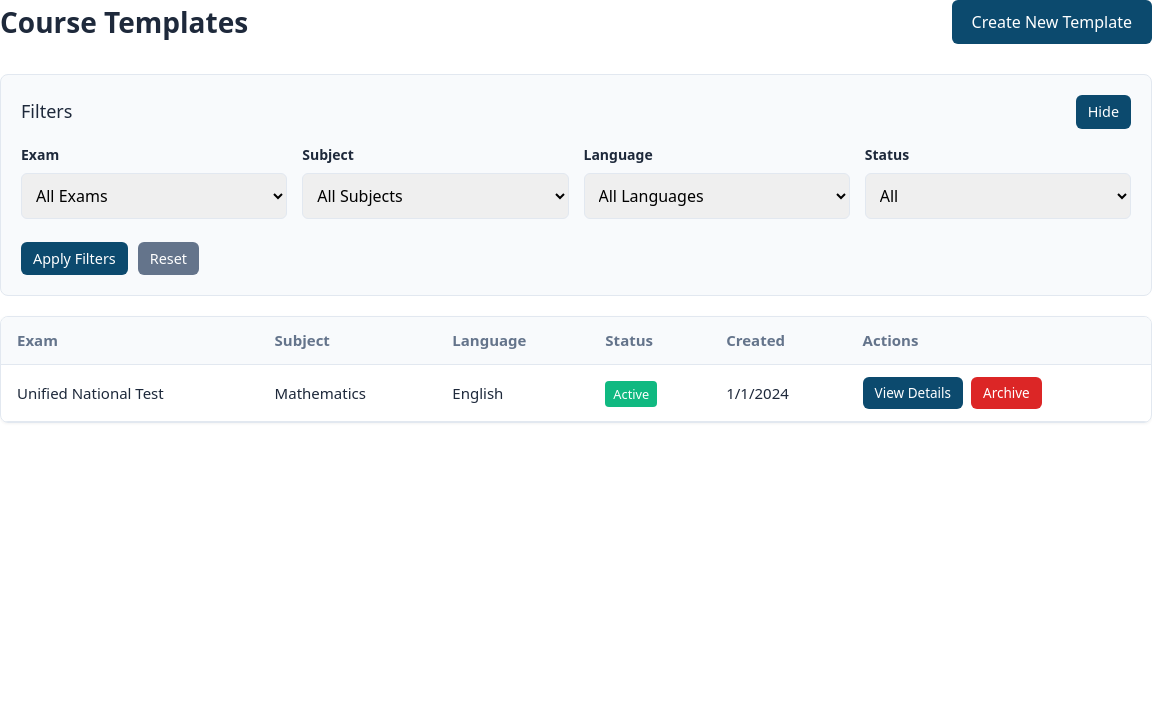
CourseTemplatePanel › displays levels with action buttons in details view
The image size is (1152, 720).
Click the button "View Details" at (913, 393), box left=863, top=377, right=963, bottom=409
(page scrolled)
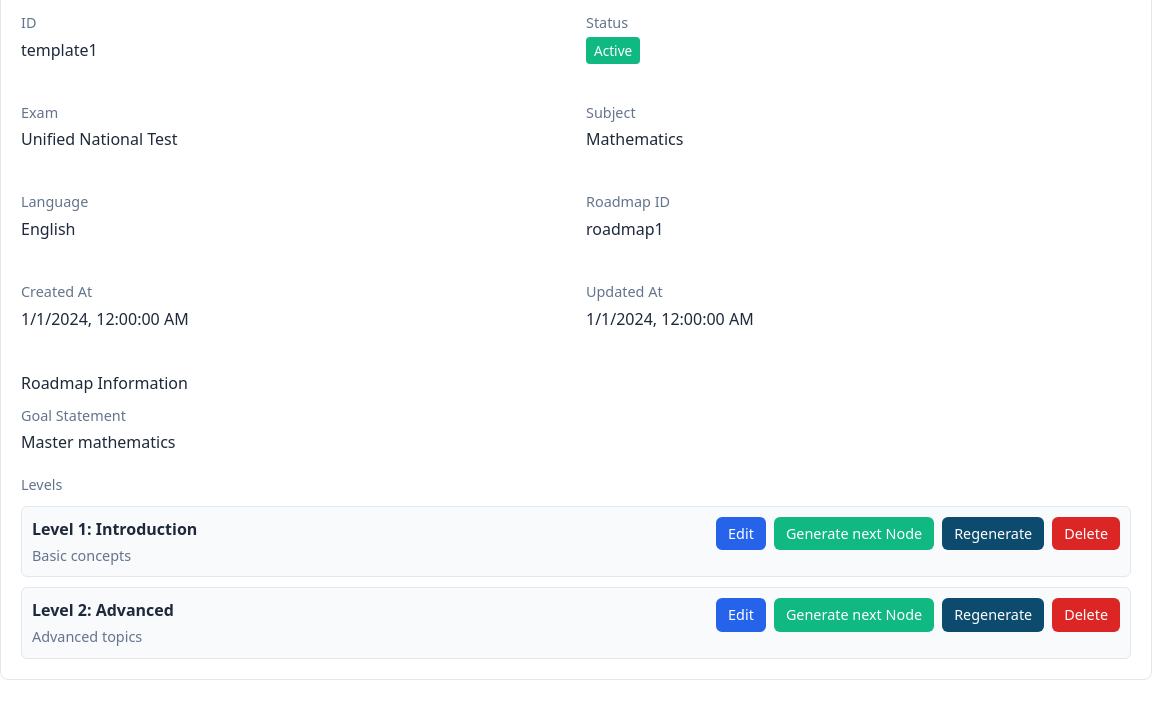
Expected: the text "Level 1: Introduction" is shown, left=32, top=517, right=197, bottom=541
Expected: the text "Level 2: Advanced" is shown, left=32, top=598, right=174, bottom=622
Expected: the number of buttons "Regenerate" is 2, left=942, top=517, right=1044, bottom=550; left=942, top=598, right=1044, bottom=632
